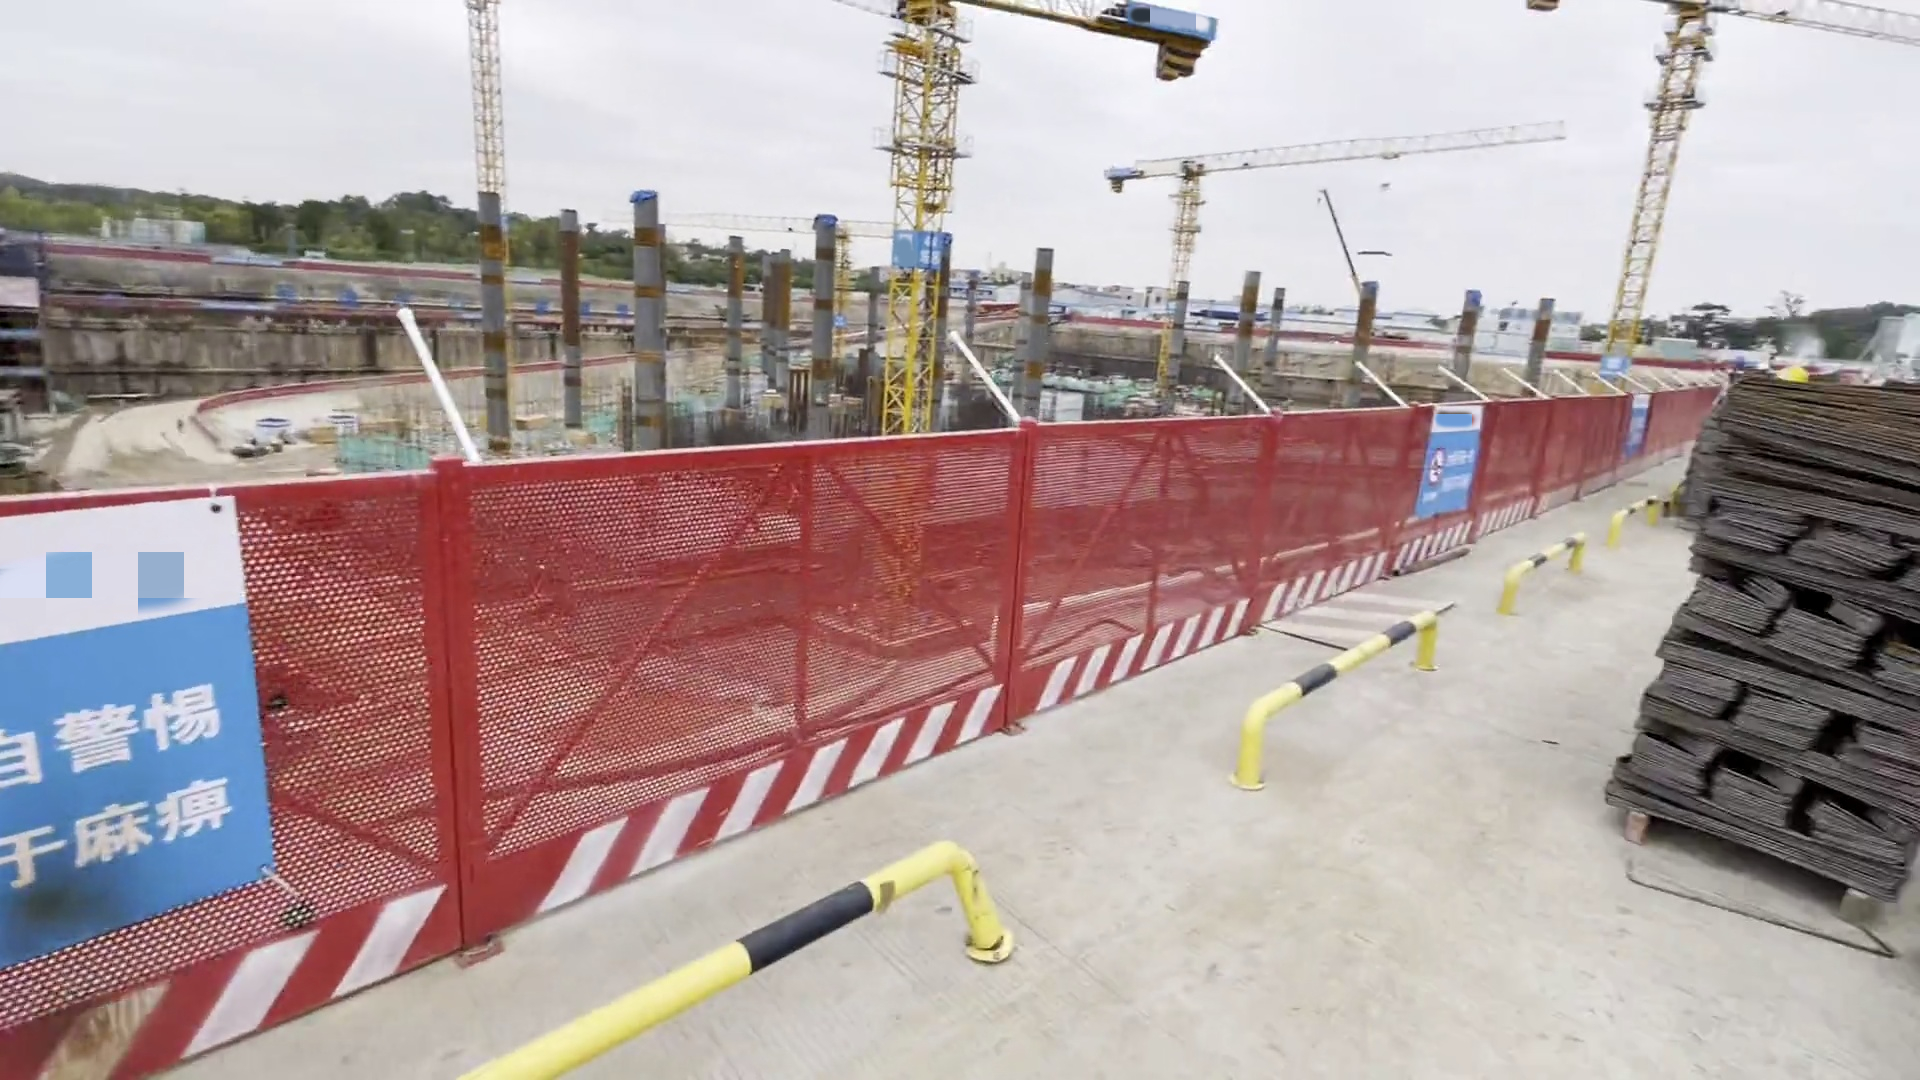fence: (4, 397, 1424, 1080), (1468, 390, 1706, 516)
slogan: (1, 684, 244, 903), (1420, 443, 1487, 509)
